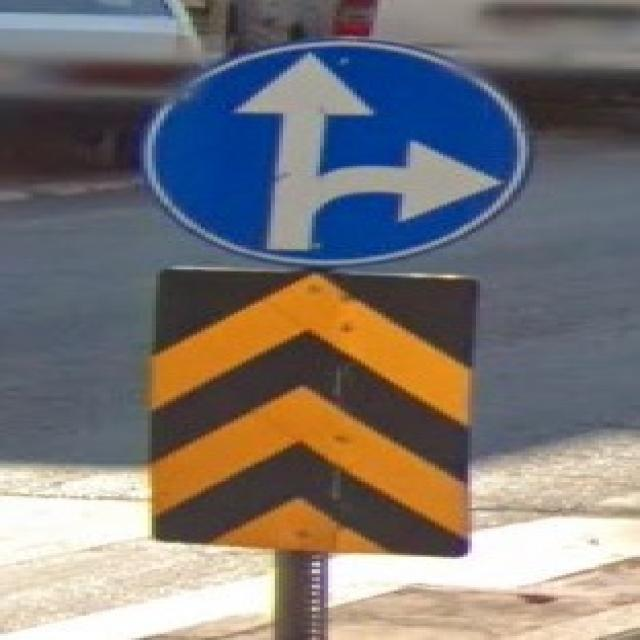Straight or Right: (143, 42, 520, 258)
